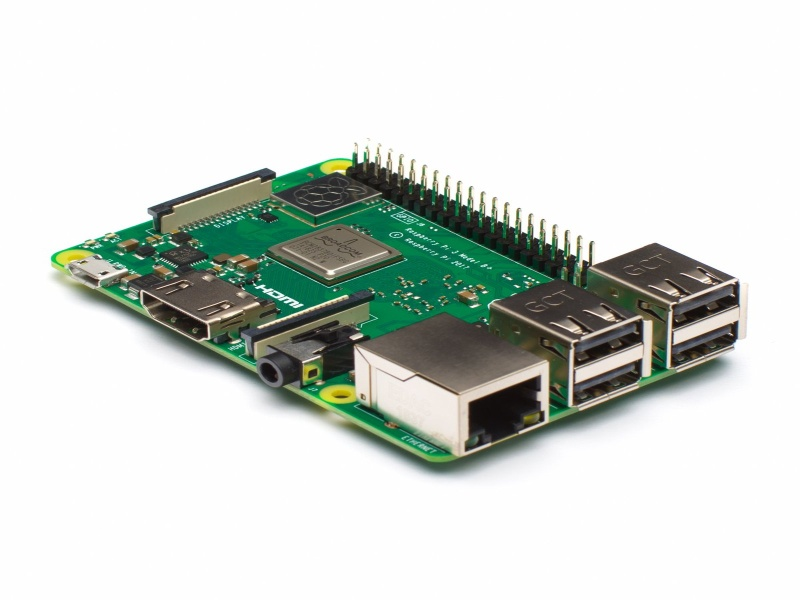raspberrypi: (33, 90, 764, 459)
